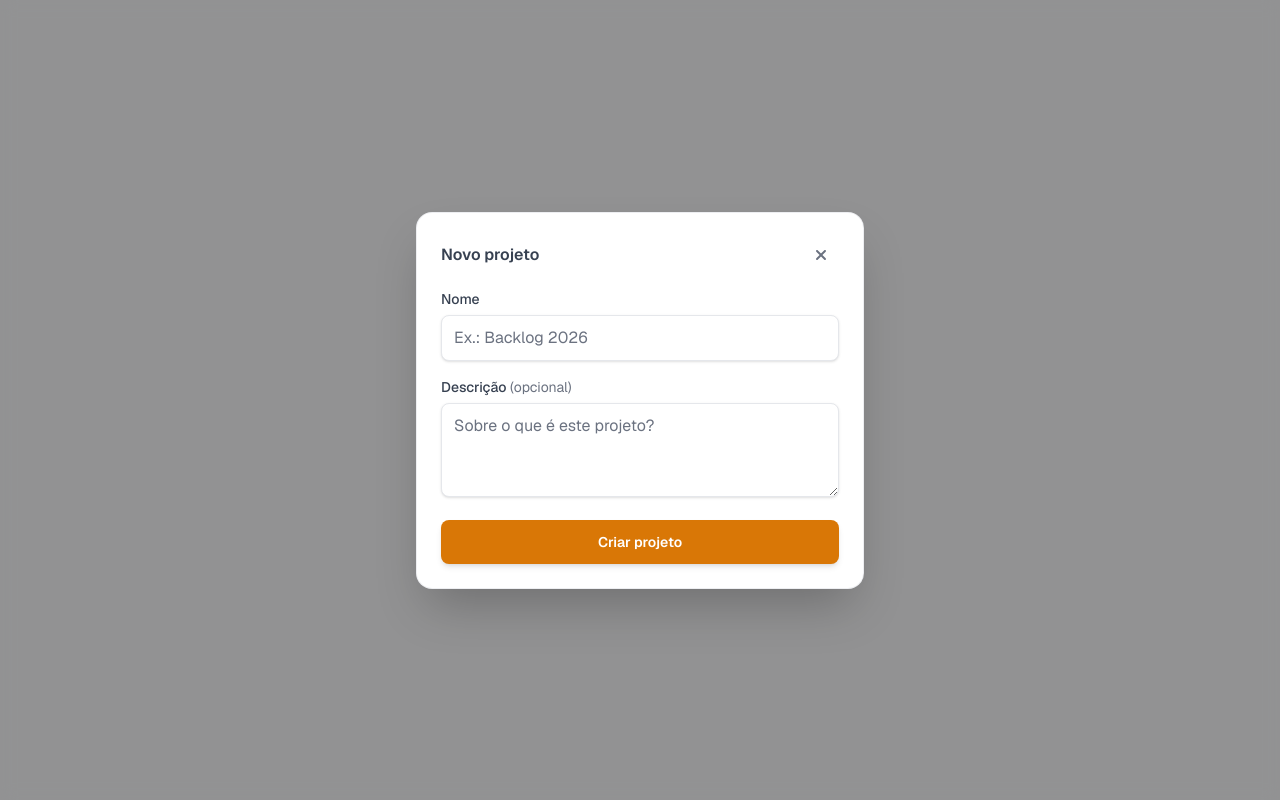
Test: ProjectFormModal › exibe erro da API
The image size is (1280, 800).
Type "X" into the field labelled "Nome" at (640, 338), box left=441, top=314, right=839, bottom=360
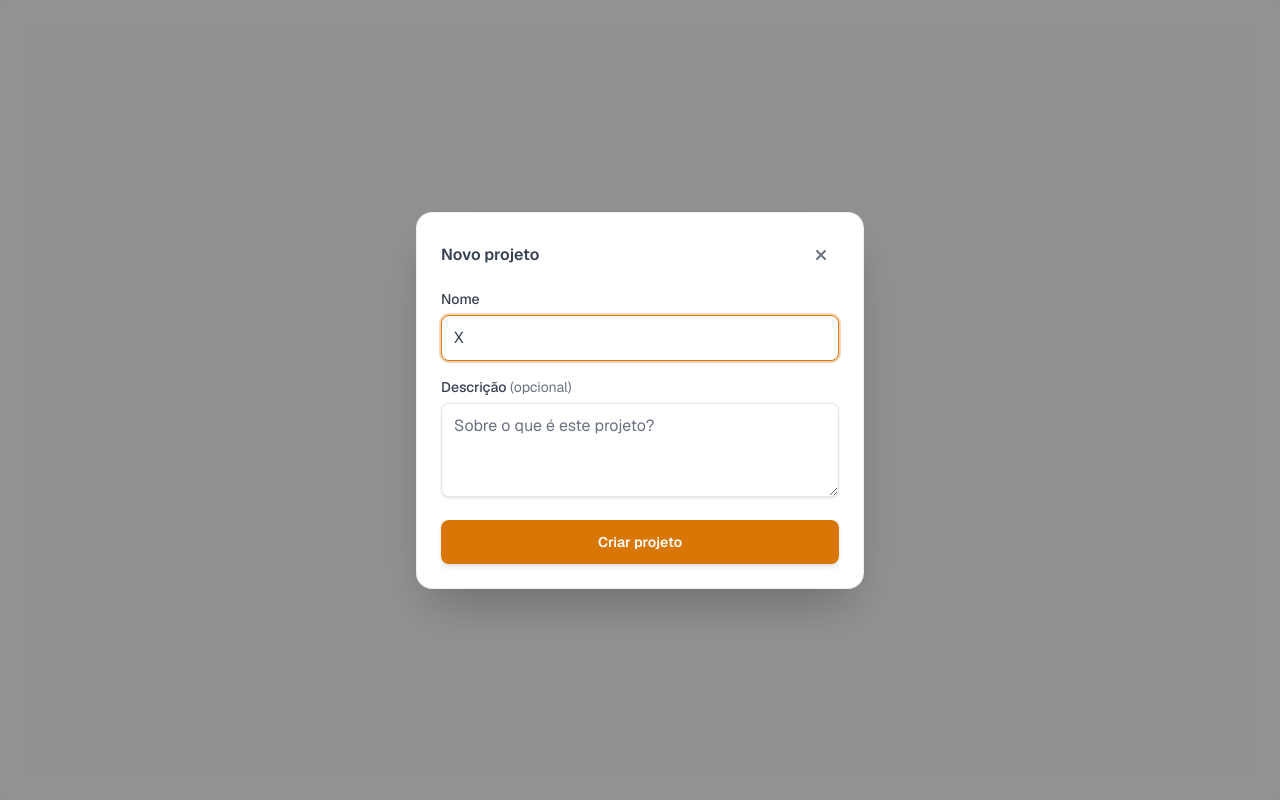
Click the button "Criar projeto" at (640, 542), box left=441, top=520, right=839, bottom=564
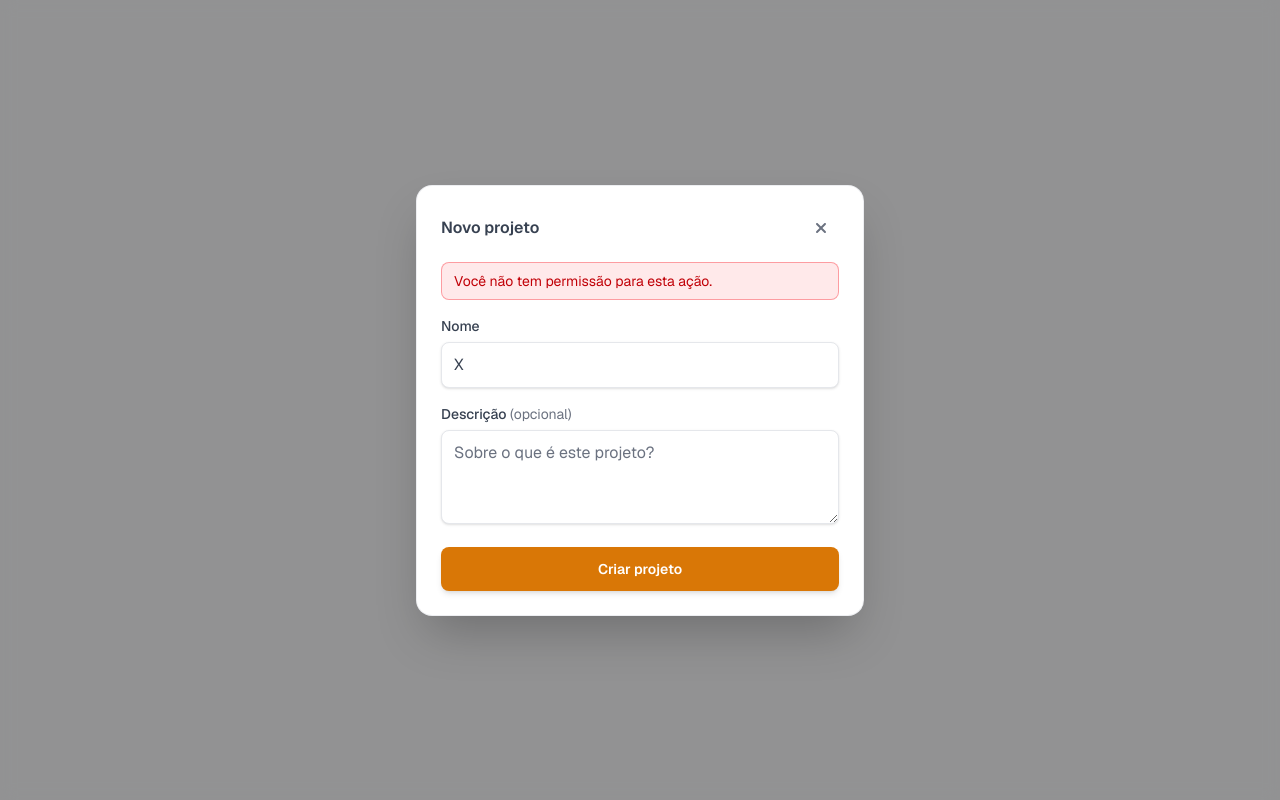
Expected: the message shows "não tem permissão", left=454, top=272, right=712, bottom=290
